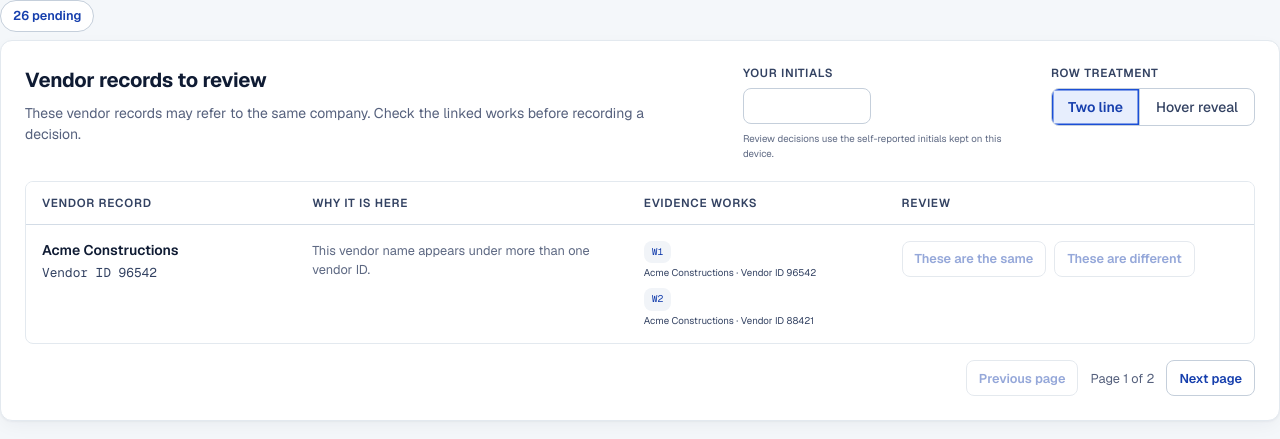
Test: AliasReviewQueue › paginates the pending queue through the API
This screenshot has width=1280, height=439.
Click the button "Next page" at (1211, 378), box [1166,360,1255,396]
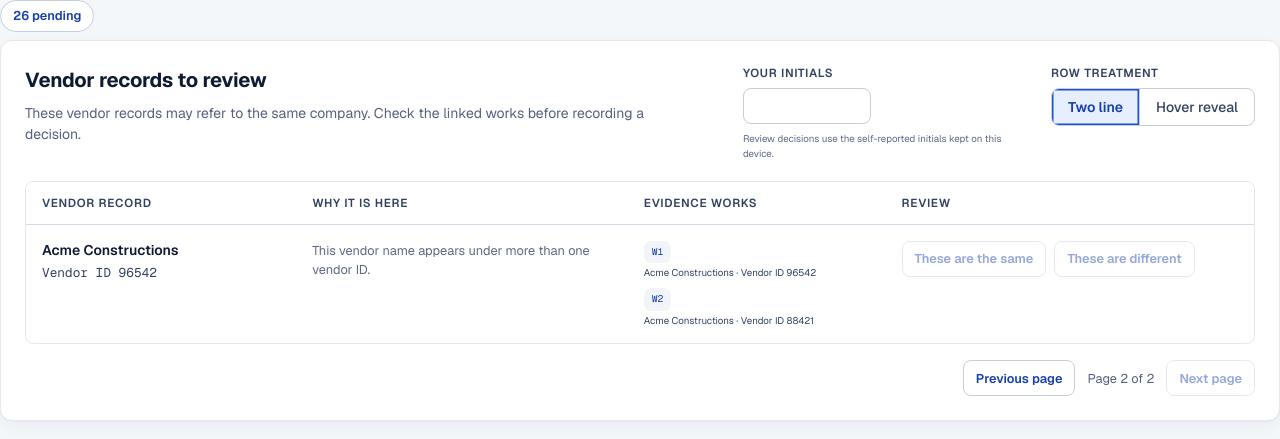
Now the button "Previous page" is enabled, box [963,360,1075,396]
